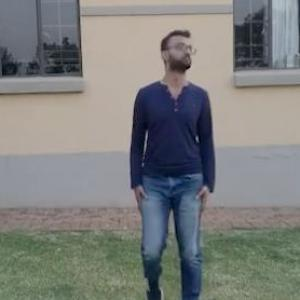follow: (124, 13, 223, 290)
